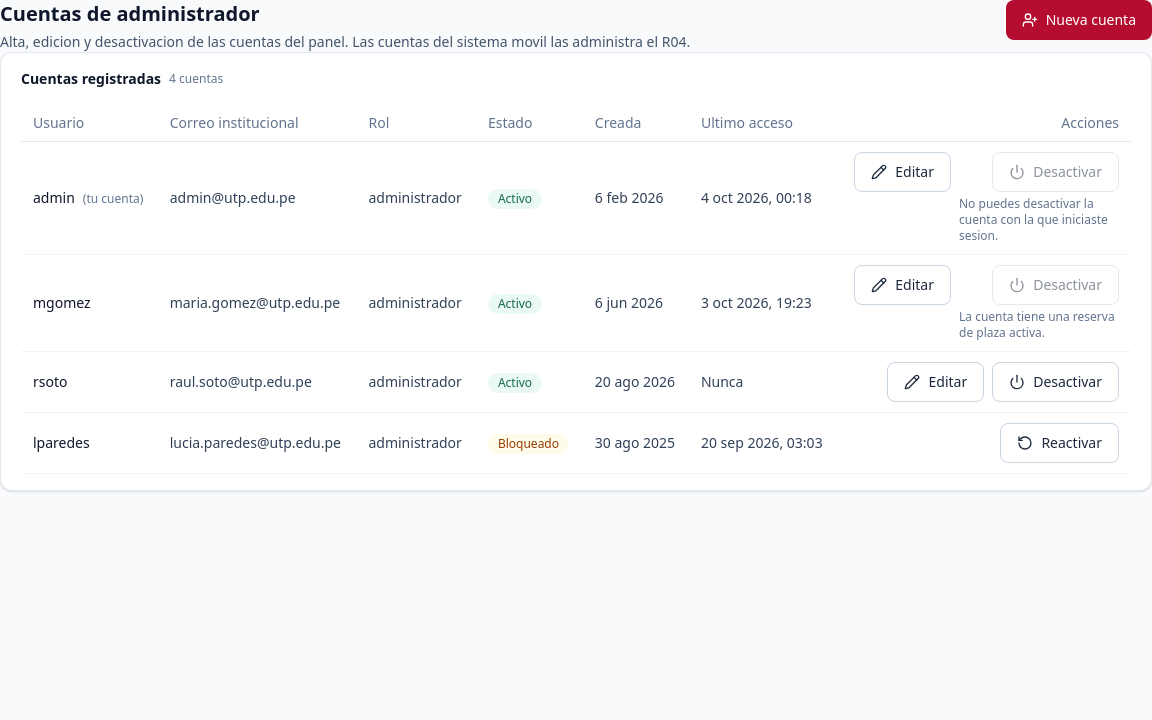
Test: CuentasAdminPage (RFA12) › da de alta una cuenta y la muestra en la lista
The width and height of the screenshot is (1152, 720).
Click the button "Nueva cuenta" at [1079, 20], box [1006,0,1151,40]
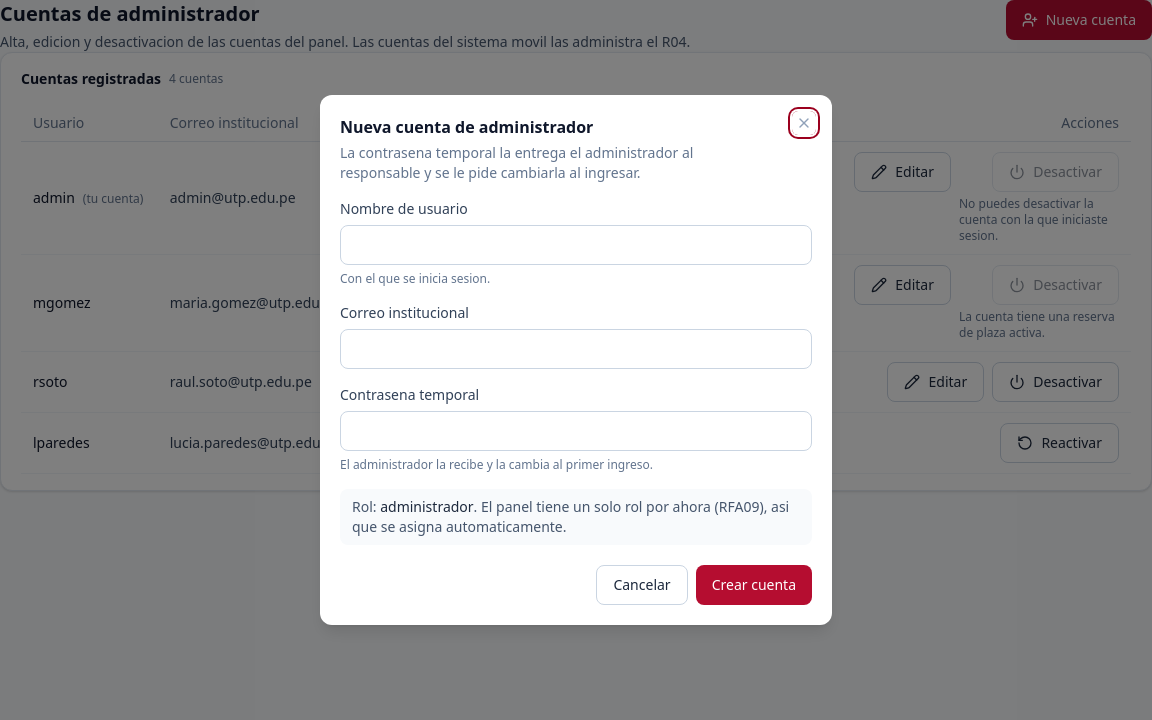
Type "aperez" into the field labelled "Nombre de usuario" at [576, 245], box [340,225,812,265]
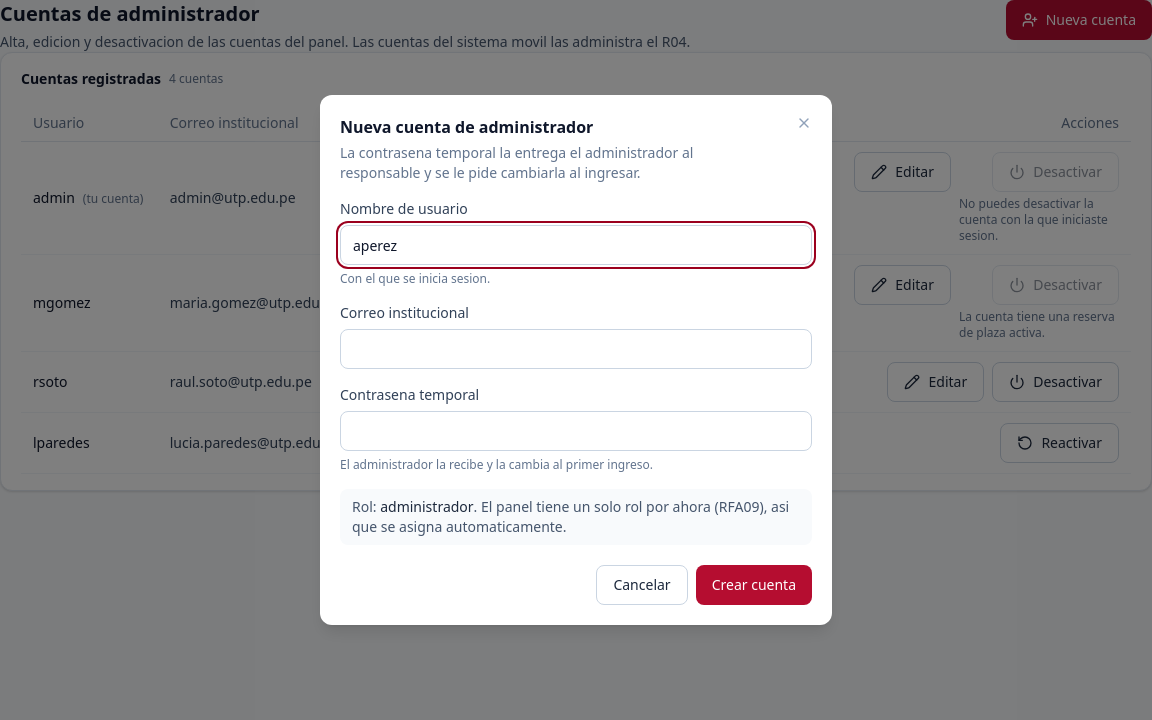
Type "aperez@utp.edu.pe" into the field labelled "Correo institucional" at [576, 349], box [340,329,812,369]
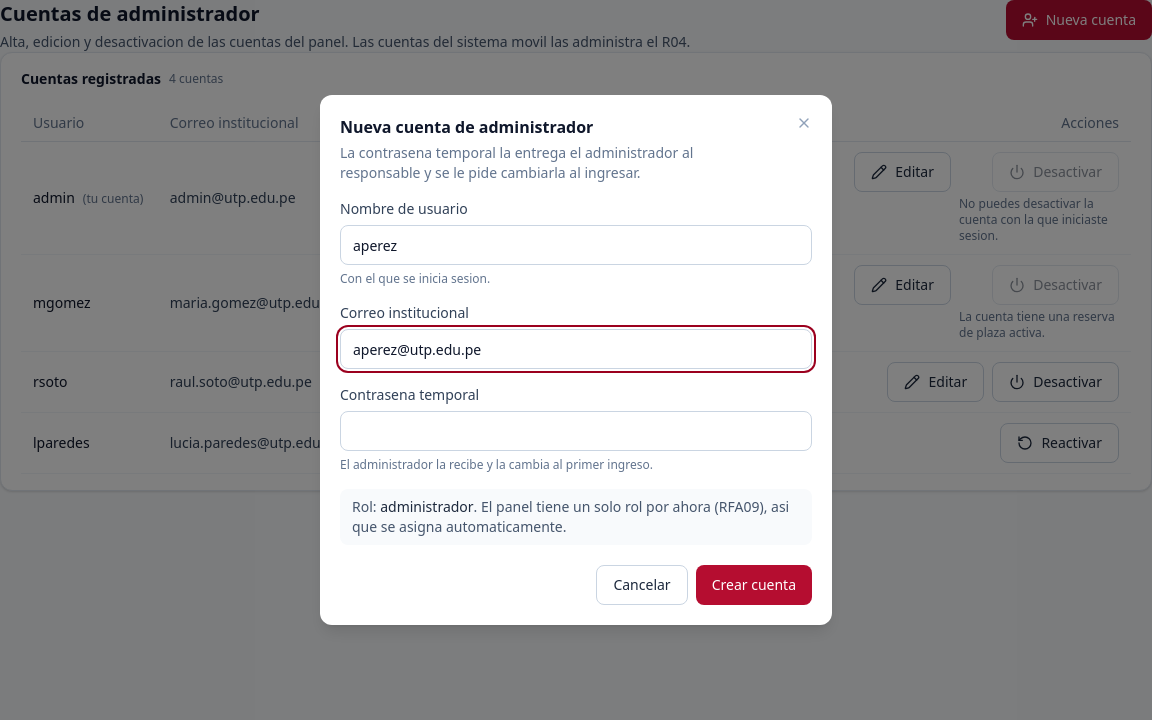
Type "utp2026" into the password field labelled "Contrasena temporal" at [576, 431], box [340,411,812,451]
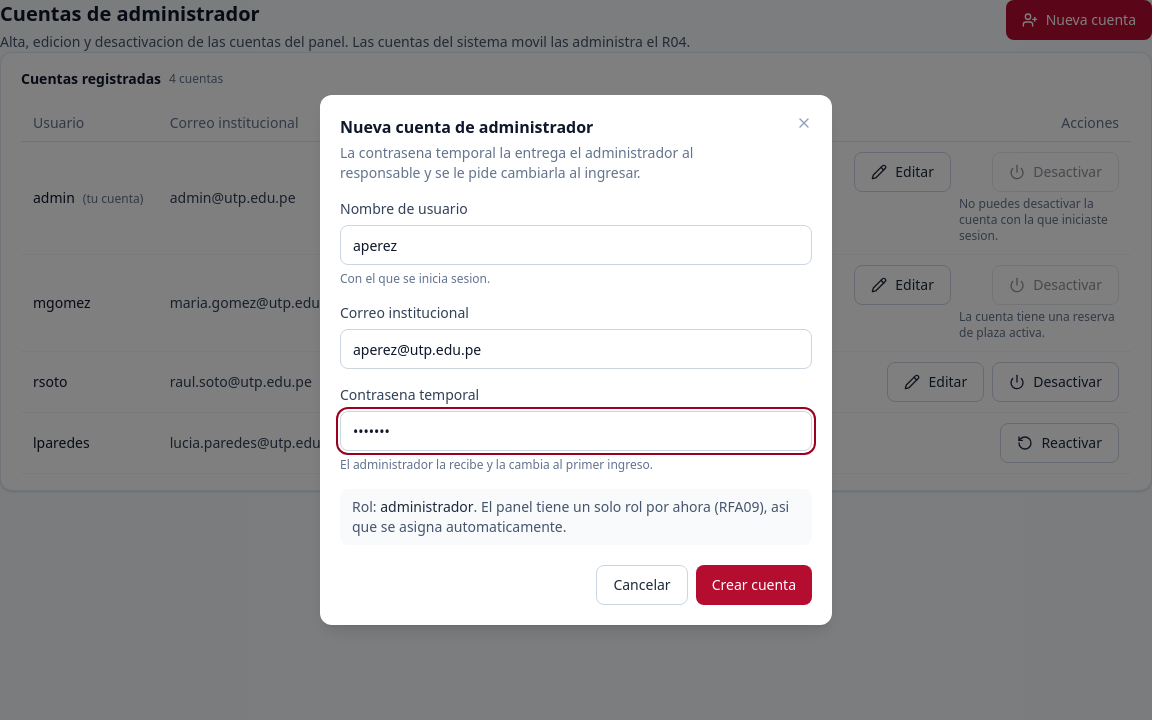
Click the button "Crear cuenta" at [754, 585], box [696,565,812,605]
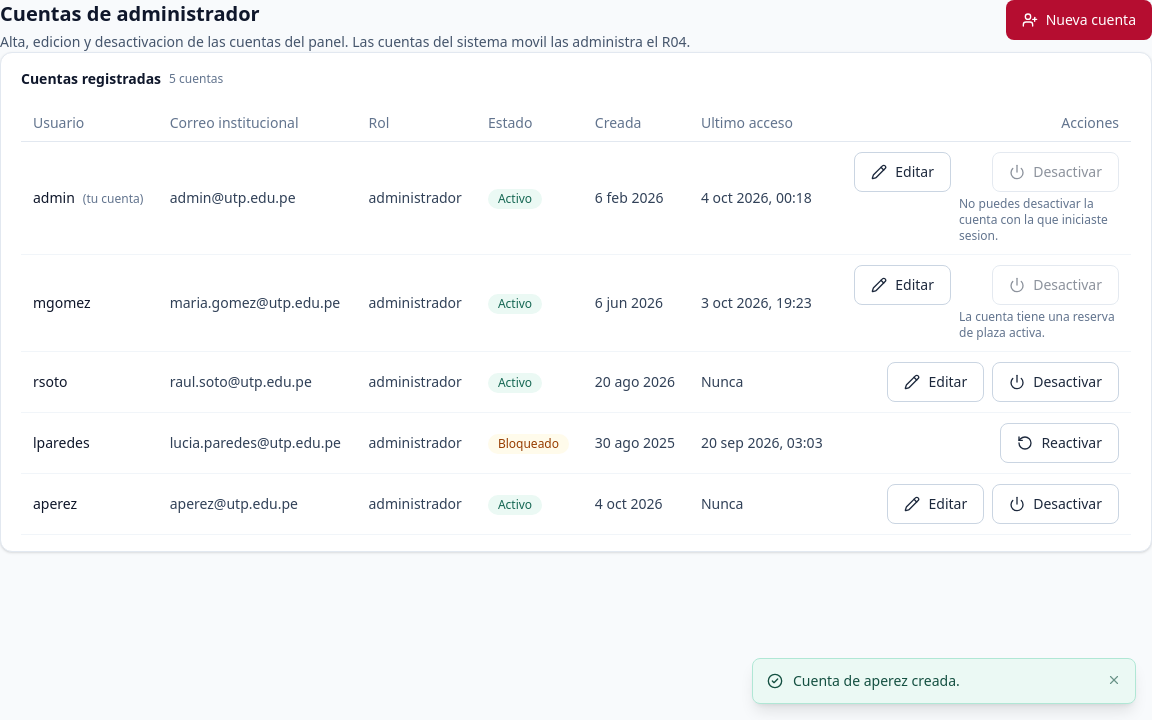
Check: the row that starts with "aperez" is shown, box [21,474,1131,534]
